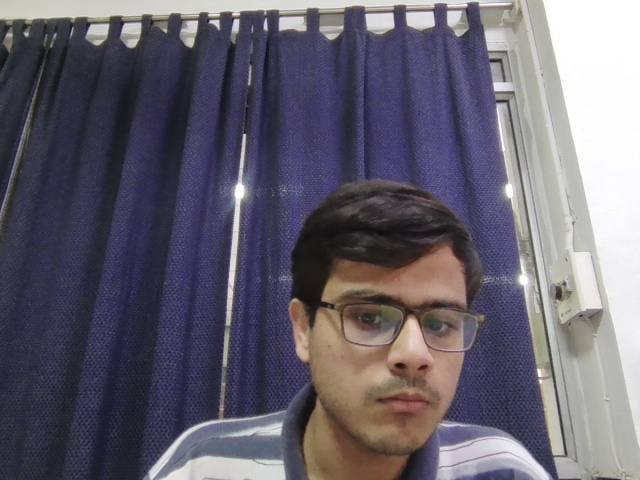face: (288, 182, 483, 457)
